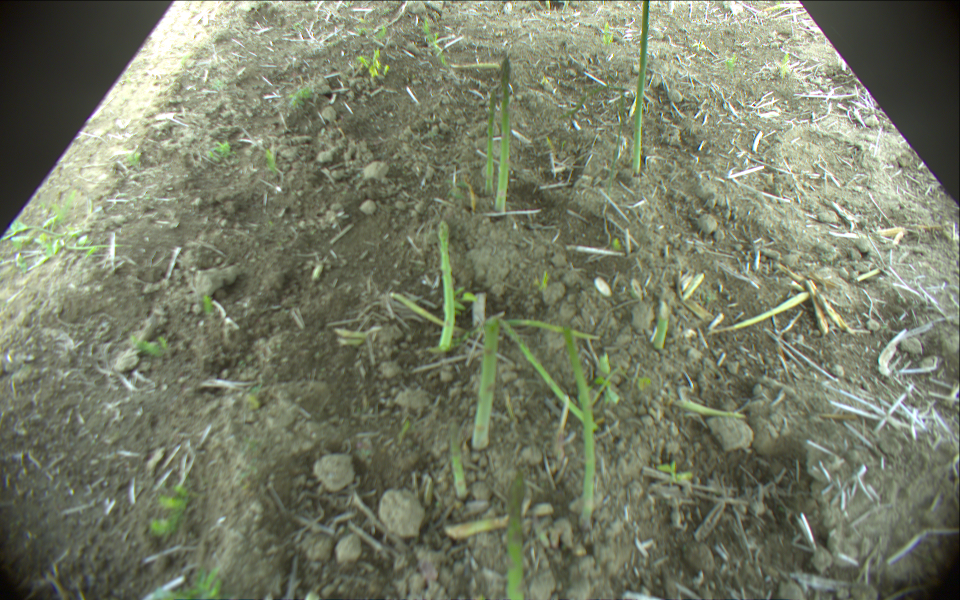aspa: (388, 291, 602, 343), (500, 320, 600, 429), (564, 318, 596, 526), (711, 290, 810, 336), (471, 318, 499, 448), (631, 1, 651, 174), (493, 59, 510, 214), (507, 479, 527, 600), (437, 222, 454, 351), (483, 87, 497, 192), (446, 421, 465, 498), (652, 301, 668, 348)
